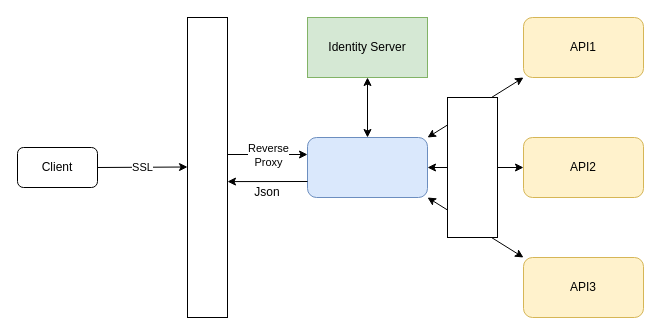
Image size: 661x335. Some labels were removed from this diagram. The centre of each missing label's shape, as x and y in pixels:
API Gateway: the point at 367,167
Nginx: the point at 207,167
Routing: the point at 472,167
